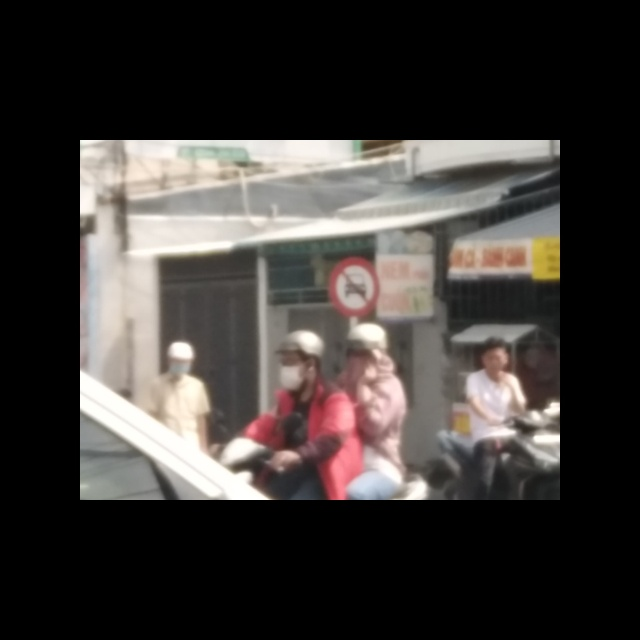Cấm xe ô tô: (325, 254, 381, 317)
